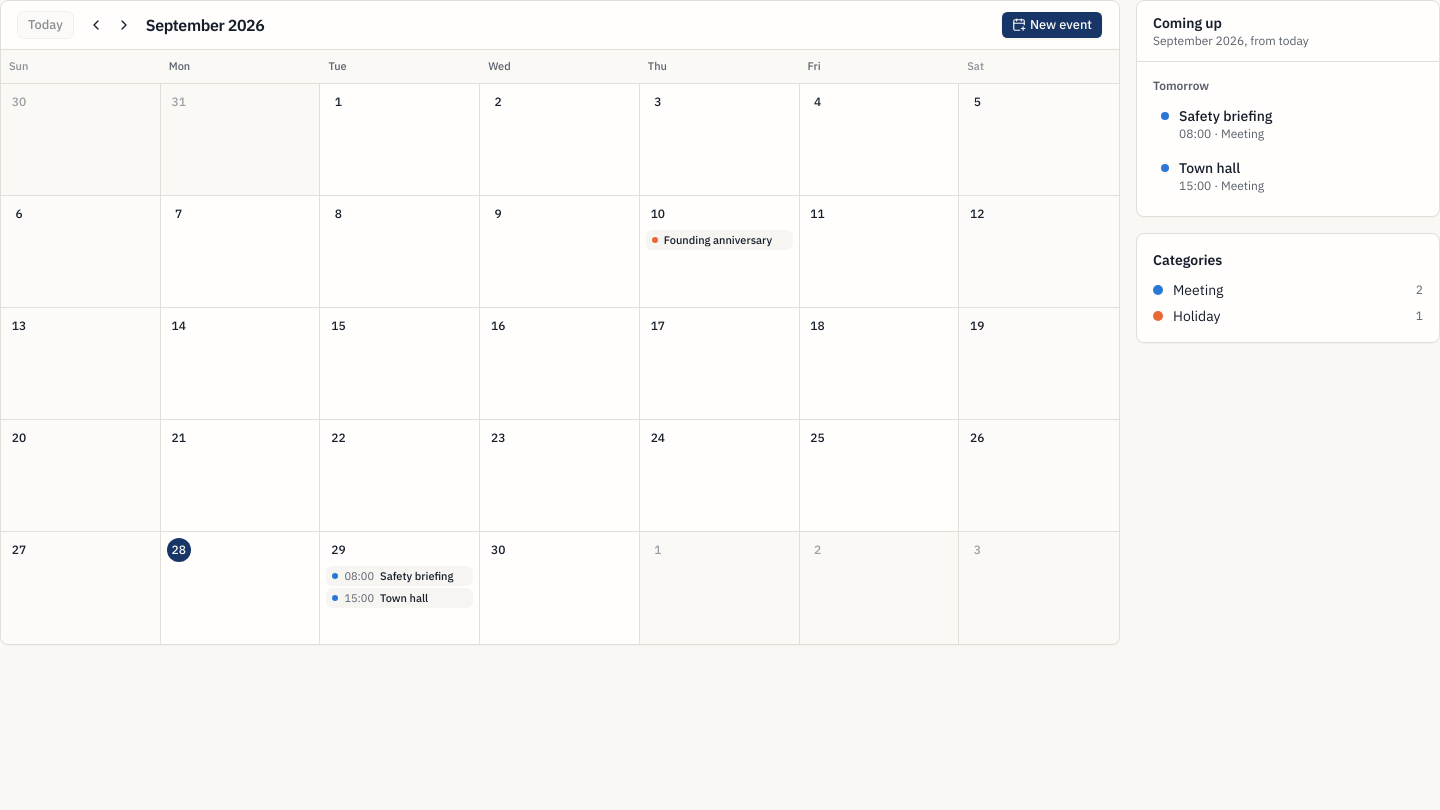
EventsCalendar › offers a New event button to people who can manage events
Step 1. Click the button "New event" → [1052, 25], box left=1001, top=11, right=1103, bottom=39
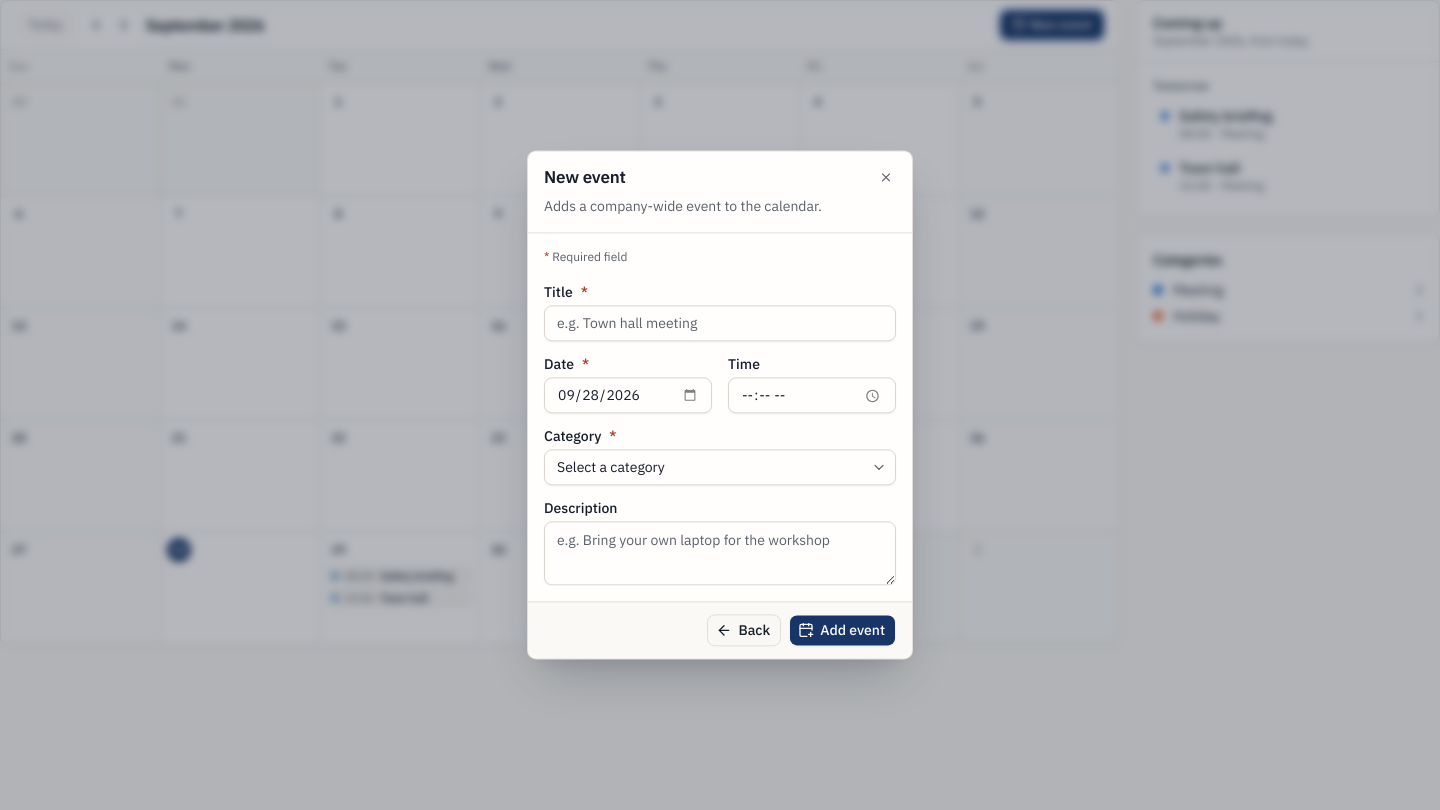
Now the date field labelled "Date *" holds "2026-09-28", box left=544, top=378, right=712, bottom=414
